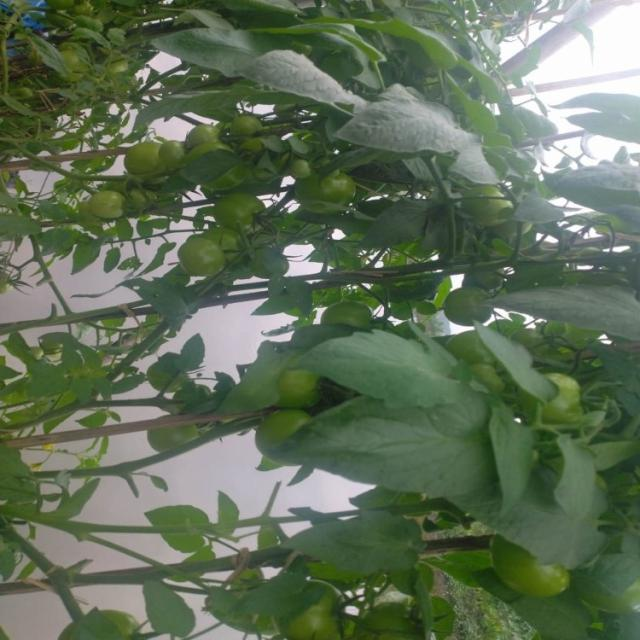tomato: (489, 534, 562, 598), (281, 585, 353, 640), (256, 401, 320, 456), (433, 282, 496, 333), (173, 229, 230, 283), (199, 183, 266, 227), (296, 162, 351, 211), (276, 362, 327, 410), (119, 137, 171, 178), (83, 186, 134, 225), (542, 369, 579, 420), (223, 112, 267, 148), (141, 415, 195, 440), (189, 123, 228, 157)
